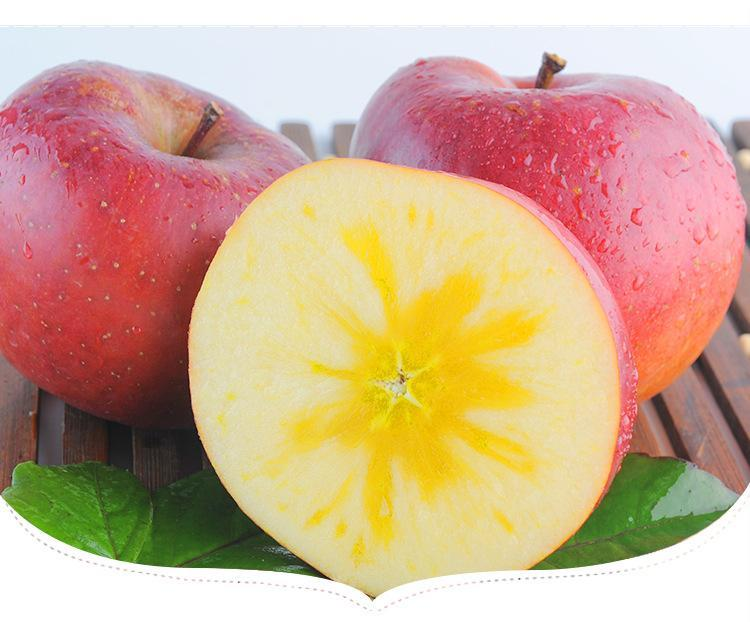apple: (355, 53, 750, 409), (1, 67, 316, 436)
